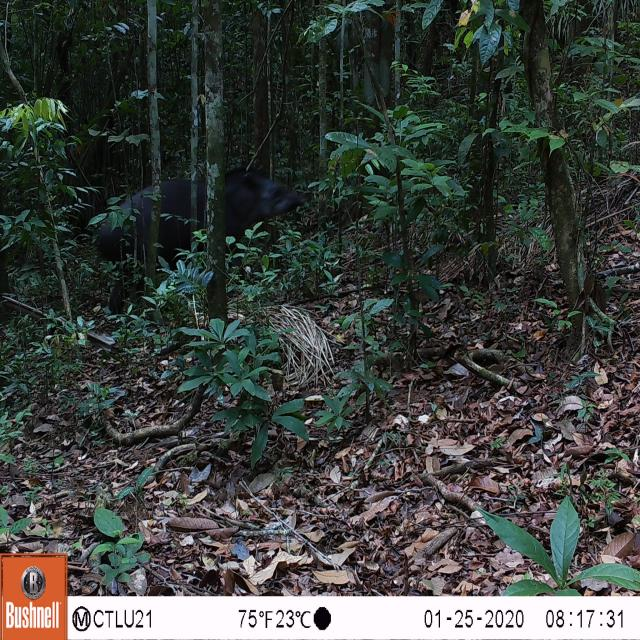Lowland Tapir: (89, 163, 306, 314)
